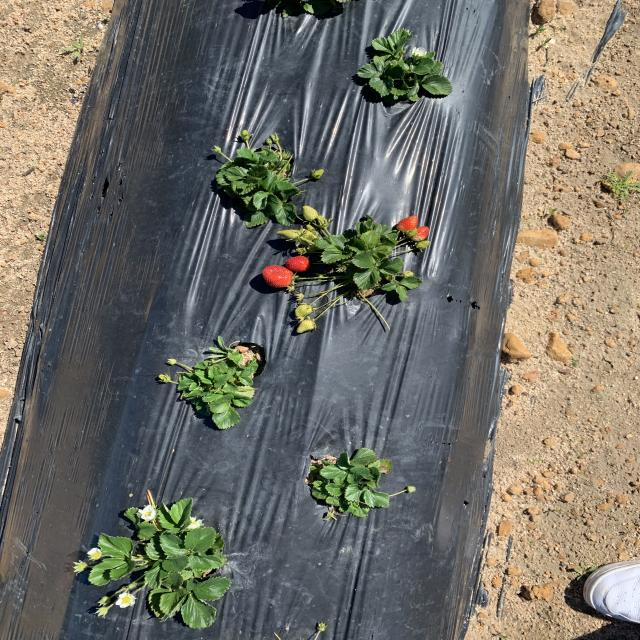unripe: (262, 264, 291, 288), (393, 215, 421, 236), (412, 223, 432, 244), (284, 255, 308, 272)
